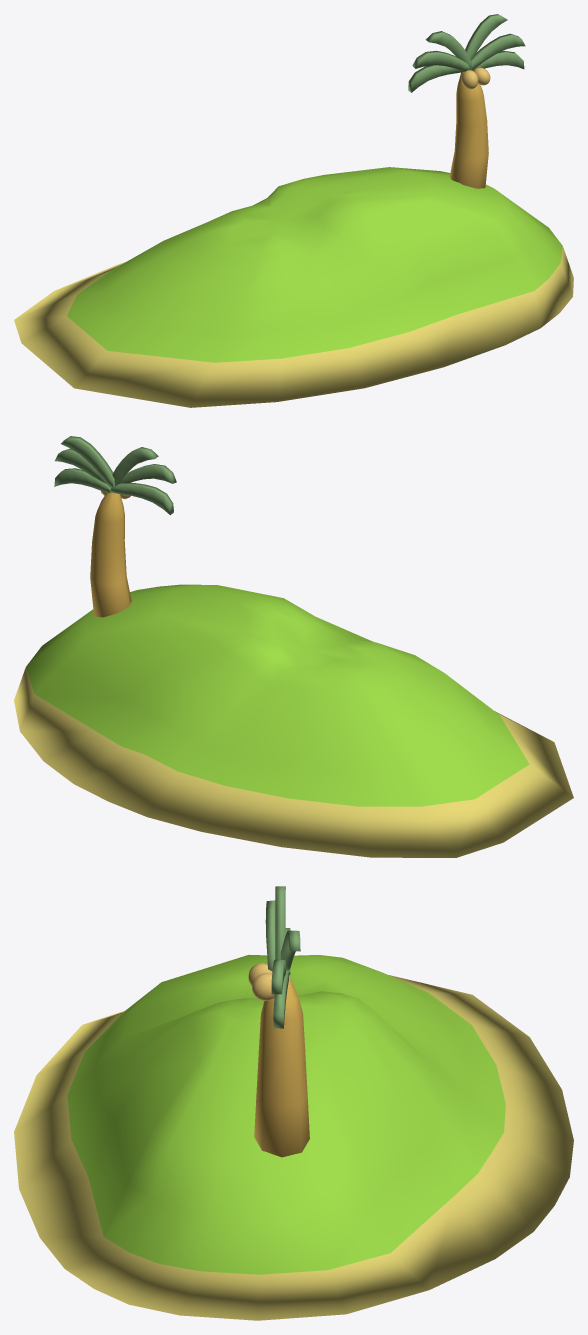
File: islandEarth.fbx
3 renders of one model, top to bottom at view 1: azimuth 30°, elevation 25°; view 2: azimuth 150°, elevation 25°; view 3: azimuth 270°, elevation 25°, orthographic. The views are drawn at different scales.
Visible parts, largest first — view 1: islandEarth, trunk, leaf2, leaf5, leaf1, leaf3, leaf4, leaf; view 2: islandEarth, trunk, leaf1, leaf3, leaf, leaf5, leaf4, leaf2; view 3: islandEarth, trunk, leaf4, leaf5, leaf, leaf1.
Part boxes in pixels (left/top/right/bottom): islandEarth: left=14, top=167, right=573, bottom=407; trunk: left=449, top=72, right=488, bottom=188; leaf2: left=471, top=33, right=525, bottom=69; leaf5: left=412, top=50, right=470, bottom=71; leaf1: left=465, top=14, right=507, bottom=60; leaf3: left=408, top=65, right=464, bottom=92; leaf4: left=425, top=31, right=471, bottom=70; leaf: left=472, top=51, right=524, bottom=70; islandEarth: left=14, top=584, right=573, bottom=857; trunk: left=90, top=492, right=131, bottom=617; leaf1: left=61, top=436, right=115, bottom=488; leaf3: left=110, top=483, right=173, bottom=515; leaf: left=54, top=468, right=110, bottom=493; leaf5: left=118, top=464, right=176, bottom=484; leaf4: left=112, top=447, right=158, bottom=486; leaf2: left=54, top=448, right=106, bottom=483; islandEarth: left=14, top=955, right=573, bottom=1320; trunk: left=254, top=975, right=309, bottom=1157; leaf4: left=275, top=886, right=285, bottom=959; leaf5: left=265, top=900, right=275, bottom=970; leaf: left=273, top=970, right=289, bottom=1028; leaf1: left=280, top=930, right=300, bottom=970.
Bounding box in the file's own units: 4395 × 2272 × 2974.
